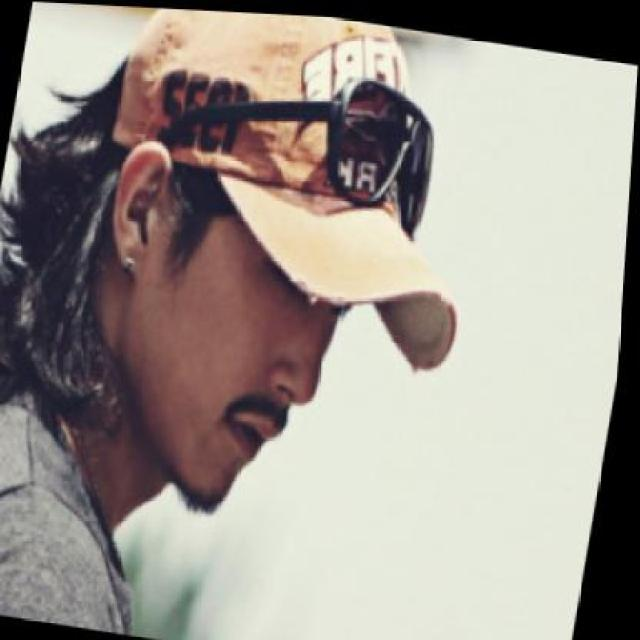hat: (83, 4, 514, 373)
